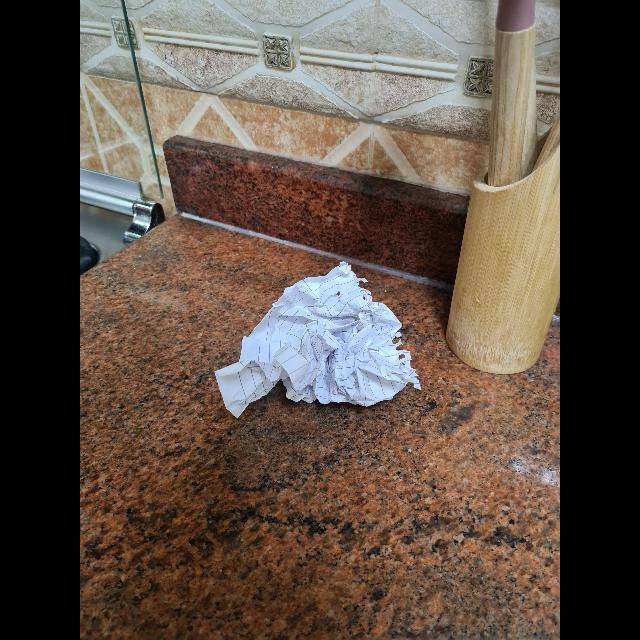trash: (214, 257, 422, 421)
